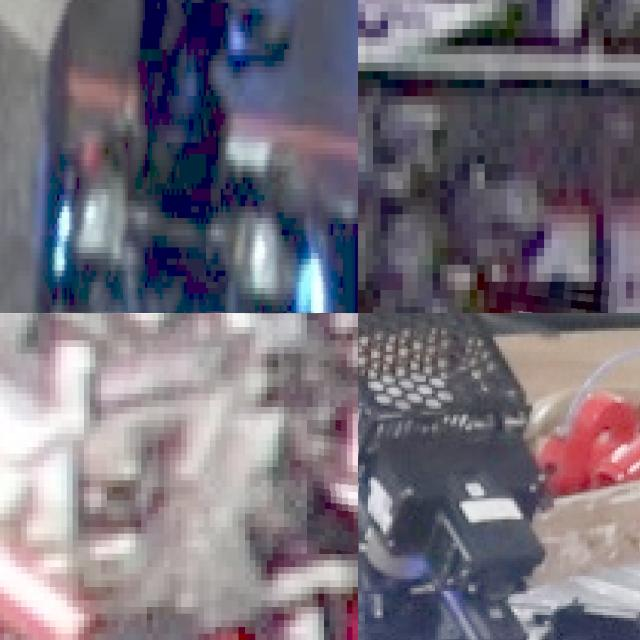R1: (175, 563, 358, 640), (306, 420, 358, 553), (484, 281, 618, 313)
